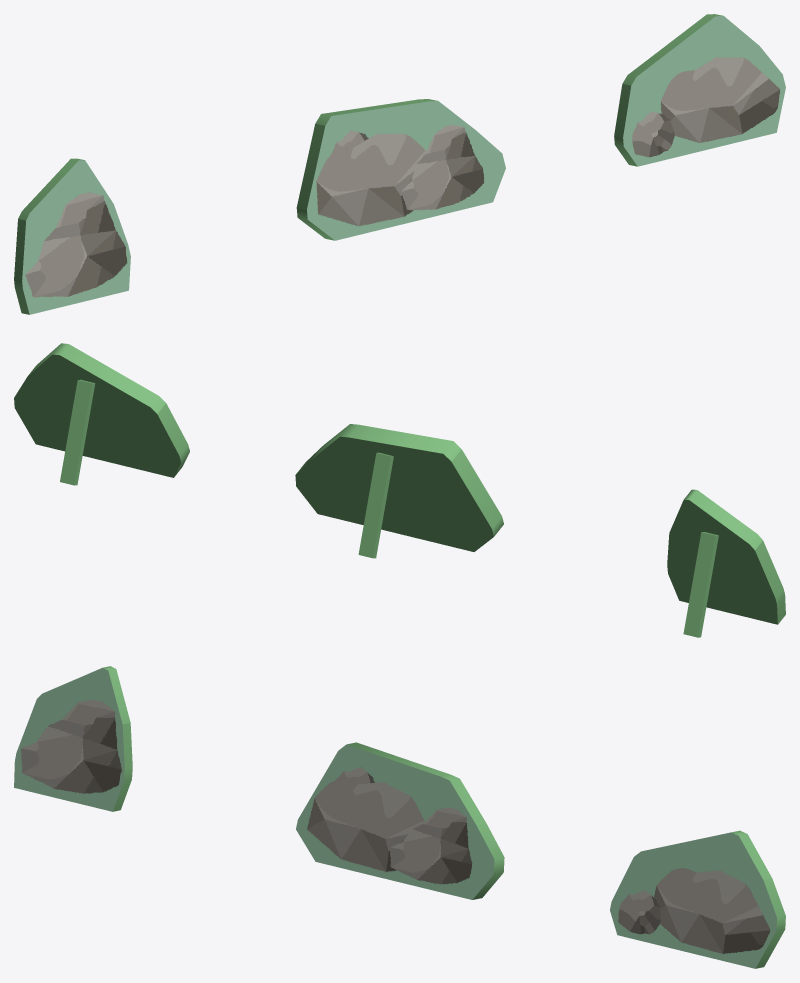
Rendered from Rocas.fbx.
3 renders of one model, top to bottom at view 1: azimuth 30°, elevation 25°; view 2: azimuth 150°, elevation 25°; view 3: azimuth 330°, elevation 25°, orthographic.
Parts seen in each view (by area): view 1: Object061, Object056, Object057; view 2: Object061, Object056, Object057; view 3: Object061, Object056, Object057.
Boxes of the visible parts, x1,y1,x2,y2 form: Object061: (296, 99, 505, 240); Object056: (614, 14, 785, 166); Object057: (14, 158, 130, 314); Object061: (295, 424, 503, 558); Object056: (14, 343, 189, 485); Object057: (667, 489, 785, 637); Object061: (296, 742, 504, 899); Object056: (610, 830, 785, 968); Object057: (14, 666, 132, 811).
Bounding box in the file's own units: 114 × 18.17 × 11.75.
2 materials, 1 textured.
